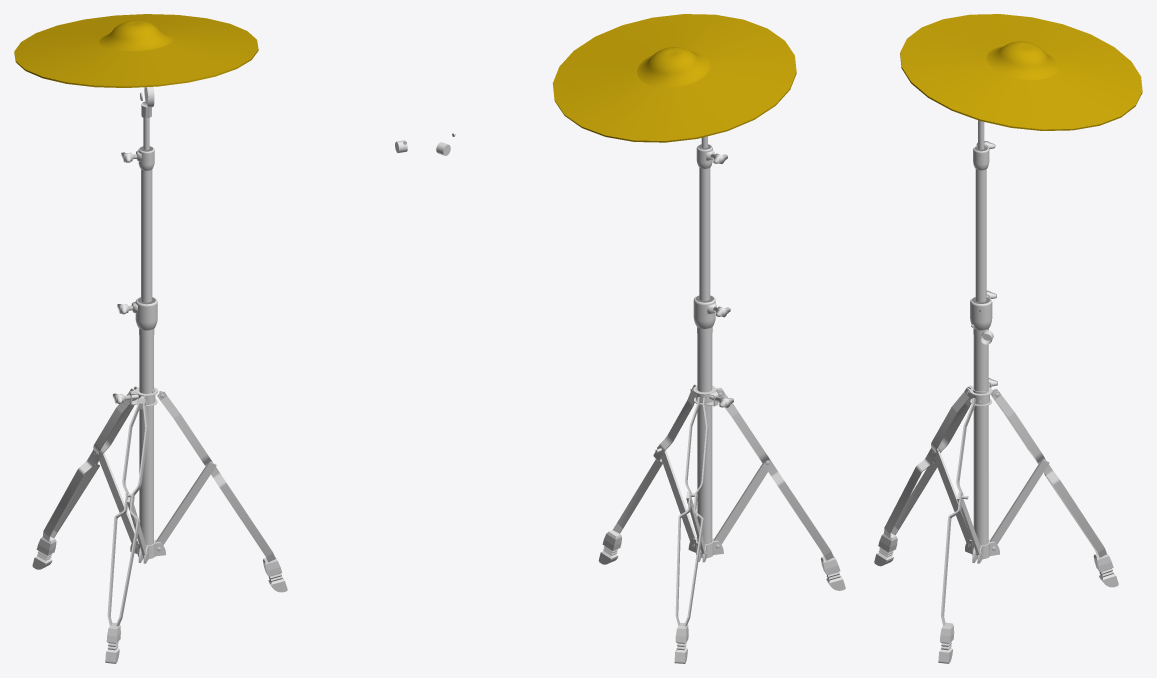
Rendered from rideCymbal.fbx.
3 renders of one model, left to right at view 1: azimuth 30°, elevation 25°; view 2: azimuth 150°, elevation 25°; view 3: azimuth 270°, elevation 25°, orthographic.
Parts seen in each view (by area): view 1: Component#16_001, Cymabl Stand_005, Group_085, Group_090, Group_089, Group_094, Group_093, Group_110, Group_097; view 2: Component#16_001, Cymabl Stand_005, Group_093, Group_085, Group_104, Group_090, Group_089, Group_110; view 3: Component#16_001, Cymabl Stand_005, Group_089, Group_094, Group_093, Group_085, Group_097, Group_104, pata de goma_017, pata de goma_015, pata de goma_013.
Boxes of the visible parts, x1,y1,x2,y2 form: Component#16_001: [14, 14, 258, 87]; Cymabl Stand_005: [129, 87, 161, 558]; Group_085: [157, 391, 275, 562]; Group_090: [42, 388, 134, 541]; Group_089: [50, 386, 137, 537]; Group_094: [115, 399, 148, 626]; Group_093: [107, 398, 139, 625]; Group_110: [156, 461, 216, 545]; Group_097: [99, 452, 137, 542]; Component#16_001: [552, 14, 796, 142]; Cymabl Stand_005: [693, 136, 718, 557]; Group_093: [717, 390, 833, 560]; Group_085: [613, 384, 696, 533]; Group_104: [713, 463, 767, 544]; Group_090: [684, 397, 708, 626]; Group_089: [675, 397, 700, 625]; Group_110: [657, 447, 696, 541]; Component#16_001: [900, 14, 1142, 130]; Cymabl Stand_005: [969, 120, 992, 559]; Group_089: [992, 390, 1106, 557]; Group_094: [884, 387, 971, 538]; Group_093: [891, 385, 972, 535]; Group_085: [940, 398, 975, 625]; Group_097: [990, 459, 1049, 544]; Group_104: [934, 451, 971, 542]; pata de goma_017: [874, 533, 897, 566]; pata de goma_015: [1093, 553, 1118, 587]; pata de goma_013: [938, 622, 954, 663].
Size of the model in its own units: 4.87 by 7.33 by 3.16.
